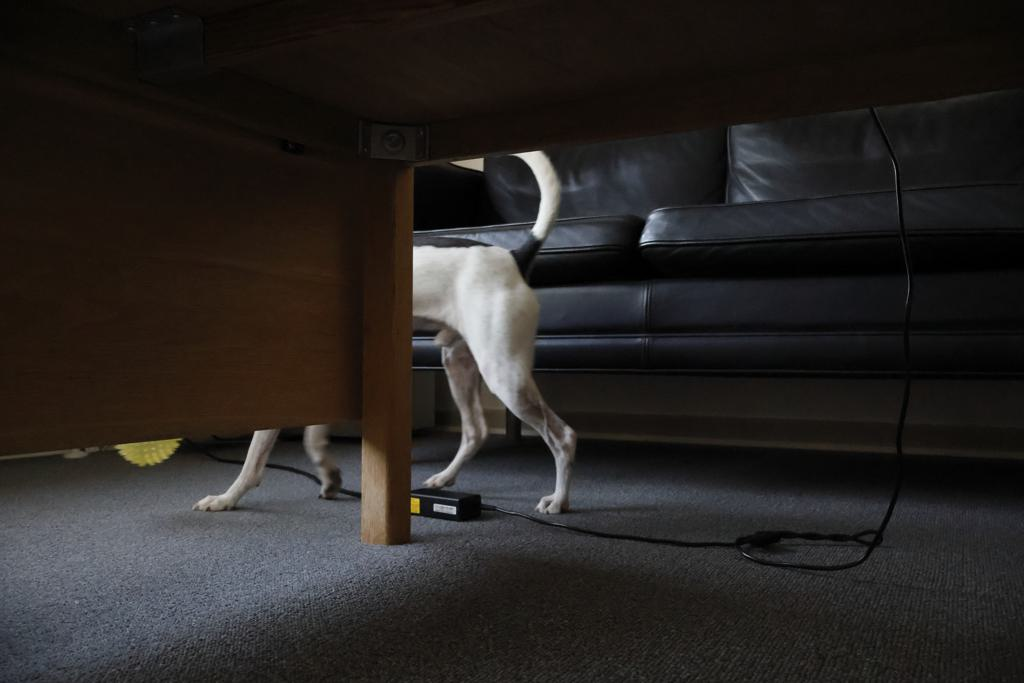Dog: (179, 128, 595, 530)
